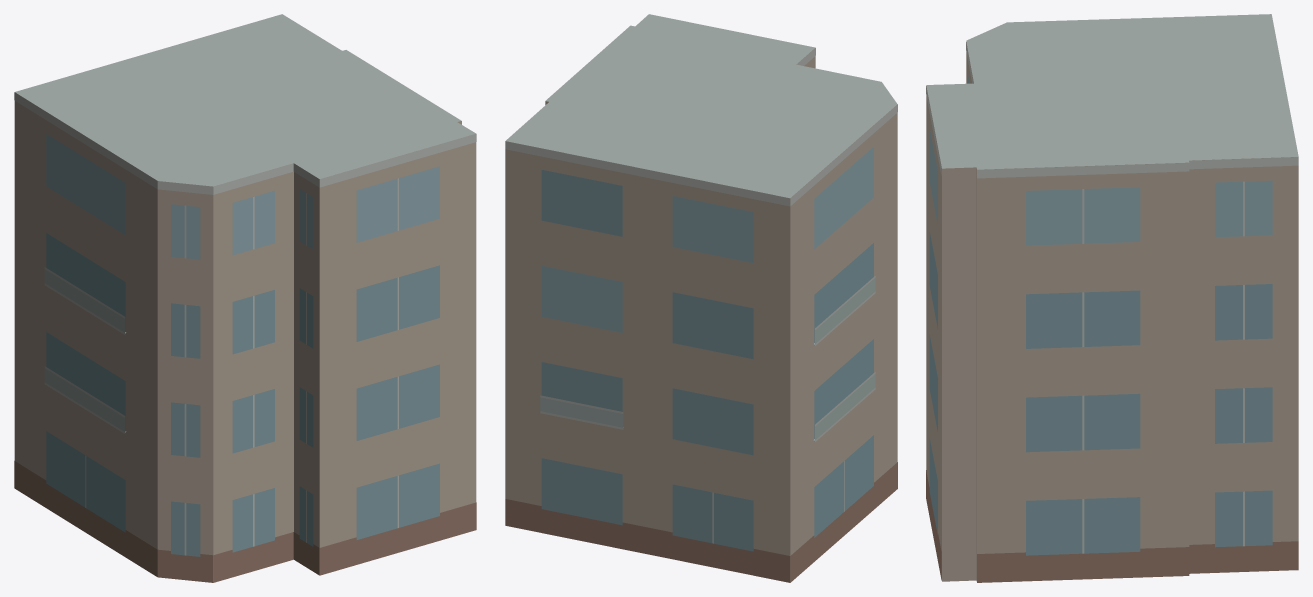
The model's file is survey-upis-32625549.glb.
3 views of the same model, side by side, from view 1: azimuth 30°, elevation 25°; view 2: azimuth 150°, elevation 25°; view 3: azimuth 270°, elevation 25° (orthographic). The views are drawn at different scales.
Visible parts, largest first — view 1: survey-upis-32625549.tmp; view 2: survey-upis-32625549.tmp; view 3: survey-upis-32625549.tmp.
Boxes of the visible parts, left/top/right/bottom form: survey-upis-32625549.tmp: left=14, top=14, right=476, bottom=582; survey-upis-32625549.tmp: left=505, top=14, right=897, bottom=582; survey-upis-32625549.tmp: left=926, top=14, right=1298, bottom=582.
Bounding box in the file's own units: 9.3 × 11.5 × 9.41.
